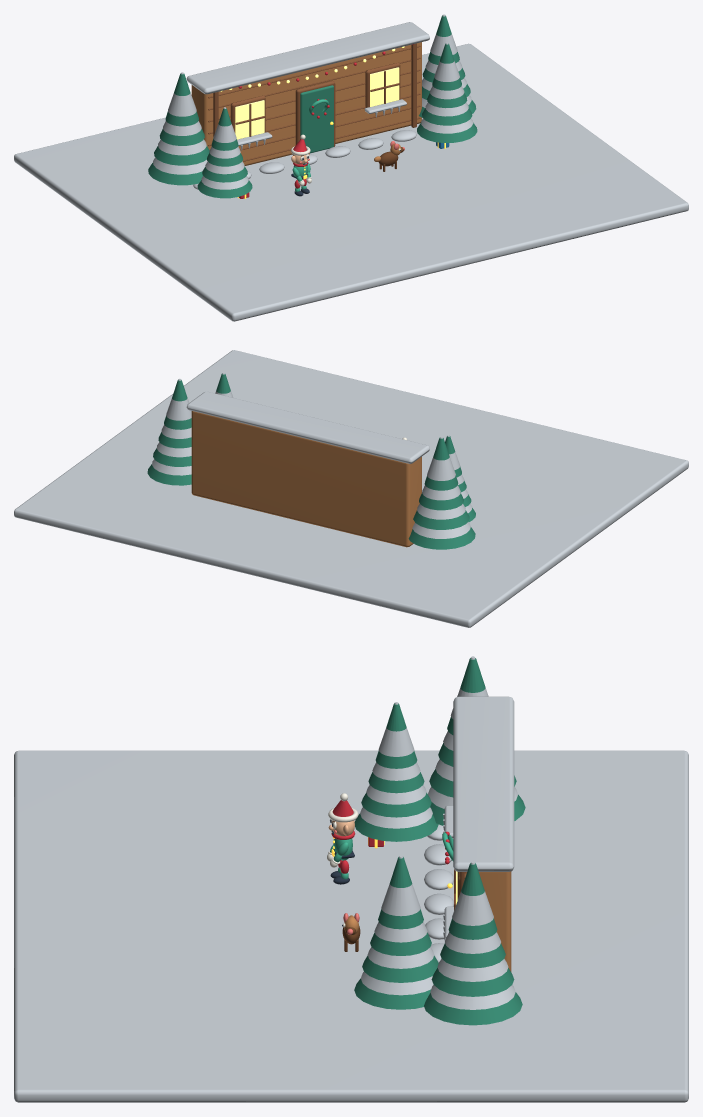
The model's file is chapter-22.glb.
3 views of the same model, one above another, from view 1: azimuth 30°, elevation 25°; view 2: azimuth 150°, elevation 25°; view 3: azimuth 270°, elevation 25° (orthographic). The views are drawn at different scales.
Visible parts, largest first — view 1: Schneeboden, Werkstatt, Schneegesims, Wichteltür, Warmes Fenster, Warmes Fenster.001, Tannenzweig.004, Tannenzweig.008, Tannenzweig.009, Türrahmen, Tannenzweig.011, Schnee.011 (+7 smaller); view 2: Schneeboden, Werkstatt, Schneegesims, Tannenzweig.008, Tannenzweig.009, Tannenzweig.011, Schnee.008, Schnee.011, Tannenzweig.015, Tannenzweig.012, Tannenzweig.010, Schnee.009 (+1 smaller); view 3: Schneeboden, Schneegesims, Werkstatt, Tannenzweig.012, Tannenzweig.013, Tannenzweig.015, Tannenzweig, Schnee.012, Tannenzweig.005, Tannenzweig.004, Schnee.015, Tannenzweig.007 (+15 smaller).
Boxes of the visible parts, box(x1,y1,x2,y2) form: Schneeboden: box(14, 43, 688, 321); Werkstatt: box(191, 42, 421, 165); Schneegesims: box(186, 22, 429, 94); Wichteltür: box(300, 85, 333, 153); Warmes Fenster: box(235, 100, 264, 139); Warmes Fenster.001: box(370, 67, 399, 106); Tannenzweig.004: box(417, 122, 477, 142); Tannenzweig.008: box(148, 163, 202, 185); Tannenzweig.009: box(154, 146, 209, 165); Türrahmen: box(295, 81, 335, 146); Tannenzweig.011: box(165, 73, 198, 126); Schnee.011: box(168, 72, 196, 116); Schneeboden: box(14, 350, 688, 627); Werkstatt: box(191, 411, 421, 547); Schneegesims: box(186, 391, 429, 463); Tannenzweig.008: box(408, 527, 475, 549); Tannenzweig.009: box(413, 510, 469, 529); Tannenzweig.011: box(424, 437, 458, 490); Schnee.008: box(412, 522, 470, 538); Schnee.011: box(427, 436, 455, 480); Tannenzweig.015: box(164, 380, 191, 429); Tannenzweig.012: box(147, 464, 191, 485); Tannenzweig.010: box(419, 493, 463, 510); Schnee.009: box(417, 504, 465, 519); Schneeboden: box(14, 750, 688, 1102); Schneegesims: box(453, 696, 514, 871); Werkstatt: box(466, 871, 511, 971); Tannenzweig.012: box(424, 992, 522, 1025); Tannenzweig.013: box(431, 968, 514, 996); Tannenzweig.015: box(448, 863, 497, 939); Tannenzweig: box(354, 813, 438, 841); Schnee.012: box(430, 985, 515, 1009); Tannenzweig.005: box(362, 955, 438, 982); Tannenzweig.004: box(354, 978, 430, 1009); Schnee.015: box(452, 861, 493, 925); Tannenzweig.007: box(378, 857, 423, 929).
Bounding box in the file's own units: 18 × 4.39 × 15.
